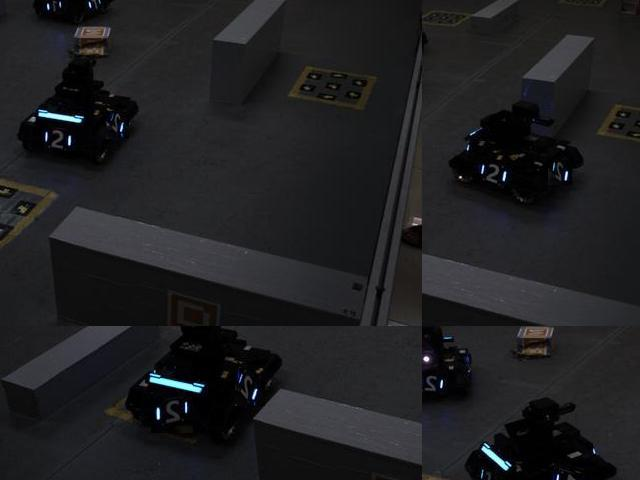armor: (152, 392, 195, 434), (235, 368, 266, 407), (477, 158, 512, 191), (38, 126, 76, 154), (106, 112, 130, 141), (549, 160, 574, 186), (422, 373, 450, 396), (476, 462, 503, 479), (550, 467, 587, 479), (42, 0, 66, 17), (85, 0, 104, 14)
